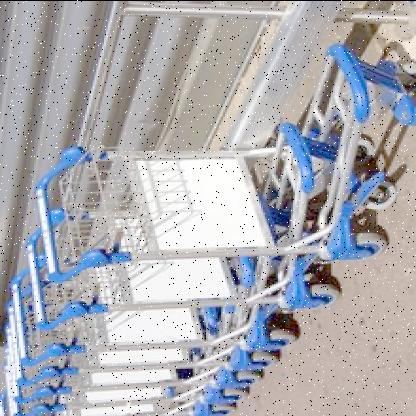airport-trolley: (38, 41, 416, 283), (27, 206, 342, 330), (11, 274, 300, 366), (9, 348, 276, 396), (4, 383, 246, 416)
